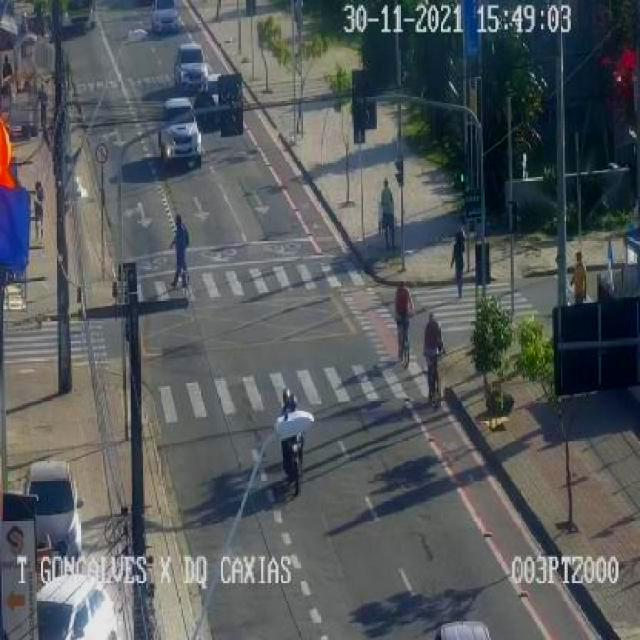bicycle: (423, 311, 446, 407), (394, 280, 414, 366)
bus: (56, 0, 99, 31)
car: (24, 461, 81, 570), (35, 573, 117, 639), (158, 97, 200, 165), (174, 43, 208, 91), (201, 74, 234, 122), (152, 2, 182, 30)
motorbike: (280, 388, 305, 494), (170, 214, 188, 288), (380, 178, 394, 248), (450, 230, 464, 298), (569, 252, 586, 305), (33, 180, 44, 242), (37, 82, 48, 133)
